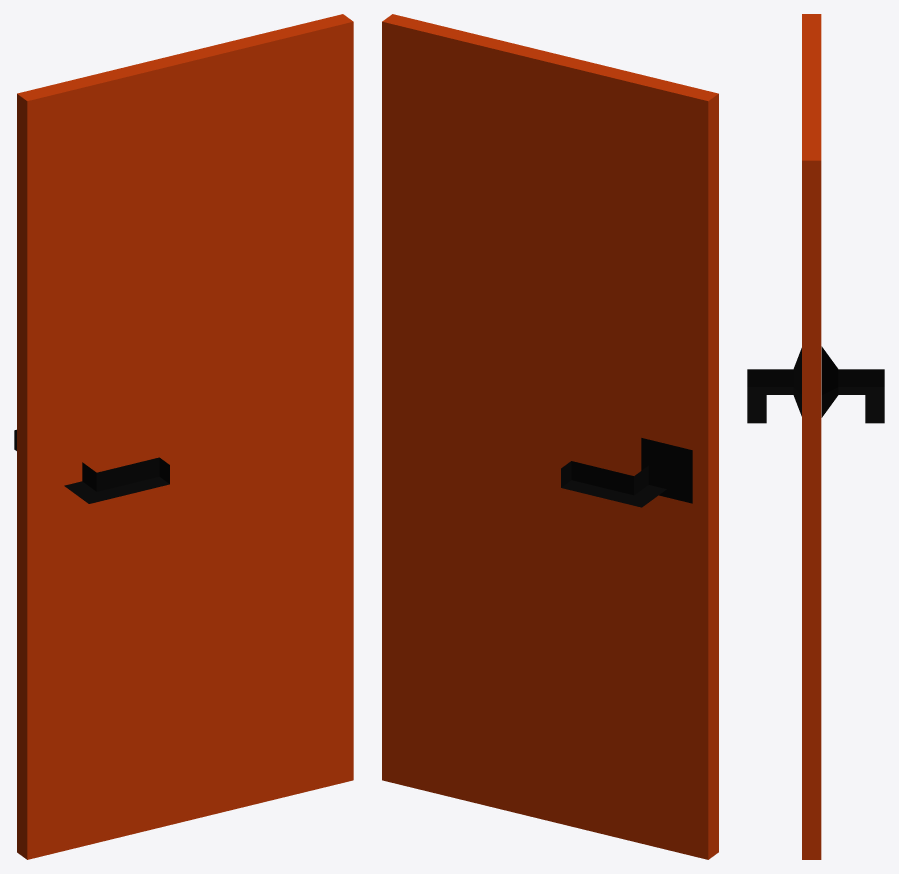
File: Door.obj
The picture shows the model from 3 angles, left to right: view 1: azimuth 30°, elevation 25°; view 2: azimuth 150°, elevation 25°; view 3: azimuth 270°, elevation 25°; orthographic projection. The views are drawn at different scales.
Visible parts, largest first — view 1: Door_Cube.002; view 2: Door_Cube.002; view 3: Door_Cube.002.
Part boxes in pixels (bbox=[...]): Door_Cube.002: bbox=[14, 14, 353, 859]; Door_Cube.002: bbox=[382, 14, 718, 859]; Door_Cube.002: bbox=[747, 14, 884, 859].
Bounding box in the file's own units: 2.15 × 4.78 × 0.8521.
